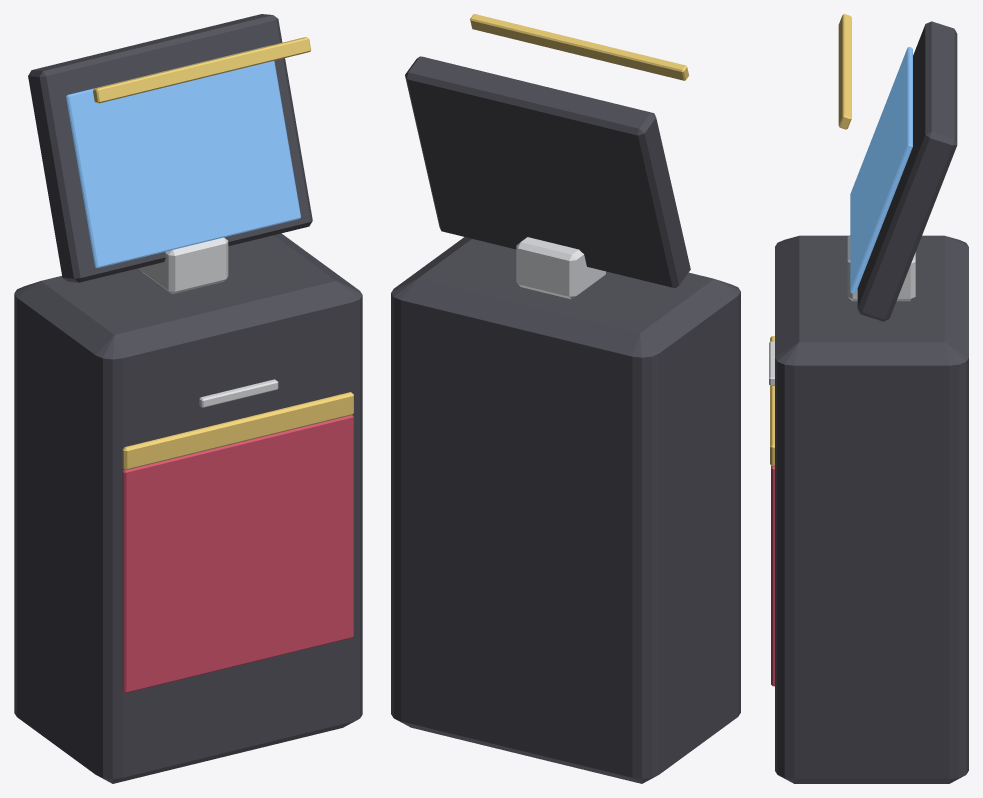
The model's file is cinema-multiplex-and-foyer-self-service-ticket-kiosk-aa30d8b3__34677.glb.
The picture shows the model from 3 angles, left to right: view 1: azimuth 30°, elevation 25°; view 2: azimuth 150°, elevation 25°; view 3: azimuth 270°, elevation 25°; orthographic projection.
Visible parts, largest first — view 1: self-service-ticket-kiosk, kiosk-screen/screen, kiosk-screen/dark, kiosk-screen/amber; view 2: self-service-ticket-kiosk, kiosk-screen/dark, kiosk-screen/amber; view 3: self-service-ticket-kiosk, kiosk-screen/dark, kiosk-screen/screen, kiosk-screen/amber.
Boxes of the visible parts, left/top/right/bottom form: self-service-ticket-kiosk: left=14, top=233, right=362, bottom=783; kiosk-screen/screen: left=66, top=46, right=300, bottom=268; kiosk-screen/dark: left=28, top=14, right=312, bottom=282; kiosk-screen/amber: left=93, top=37, right=310, bottom=103; self-service-ticket-kiosk: left=391, top=237, right=740, bottom=783; kiosk-screen/dark: left=405, top=56, right=690, bottom=287; kiosk-screen/amber: left=470, top=14, right=688, bottom=80; self-service-ticket-kiosk: left=769, top=235, right=968, bottom=783; kiosk-screen/dark: left=857, top=21, right=957, bottom=321; kiosk-screen/screen: left=850, top=47, right=912, bottom=293; kiosk-screen/amber: left=838, top=14, right=851, bottom=129.
Bounding box in the file's own units: 0.62 × 1.51 × 0.412.
